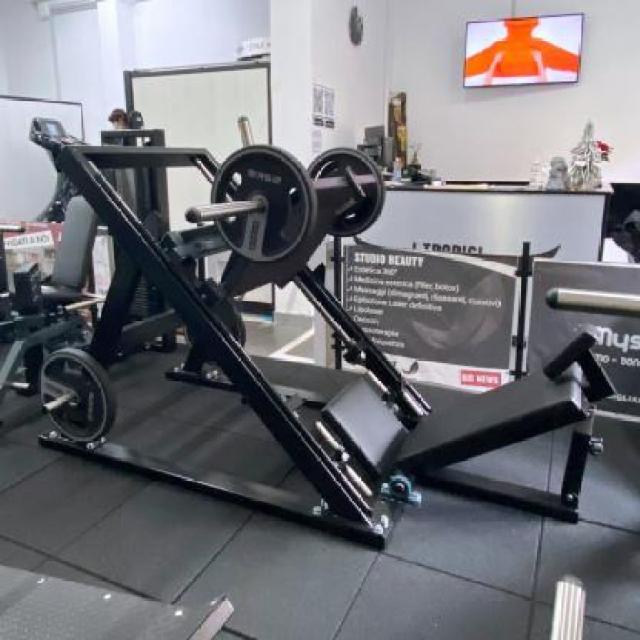leg press: (12, 94, 640, 583)
